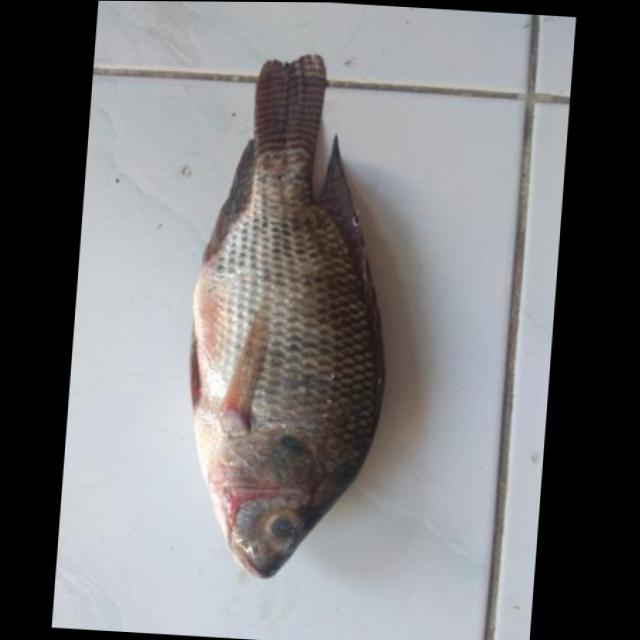Tilapia: (171, 48, 407, 587)
